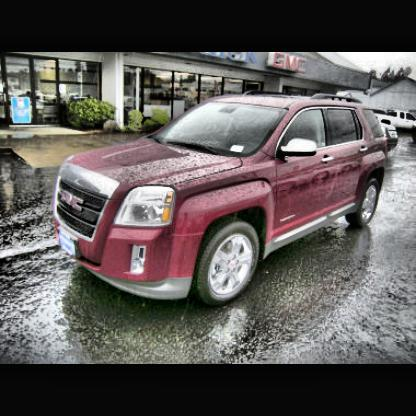GMC Terrain SUV 2012: (53, 95, 390, 301)
